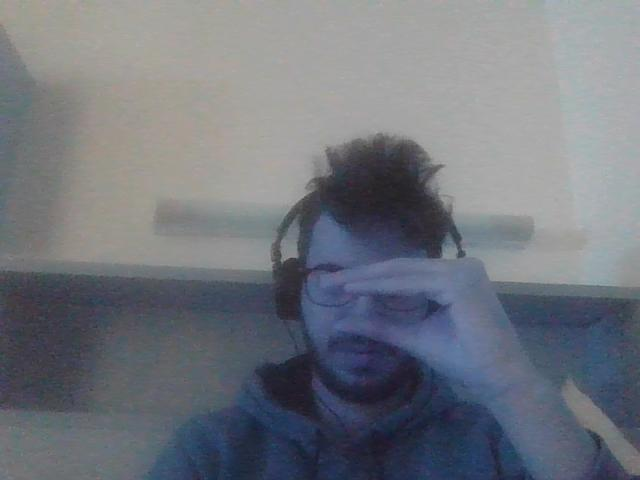no: (325, 249, 529, 390)
